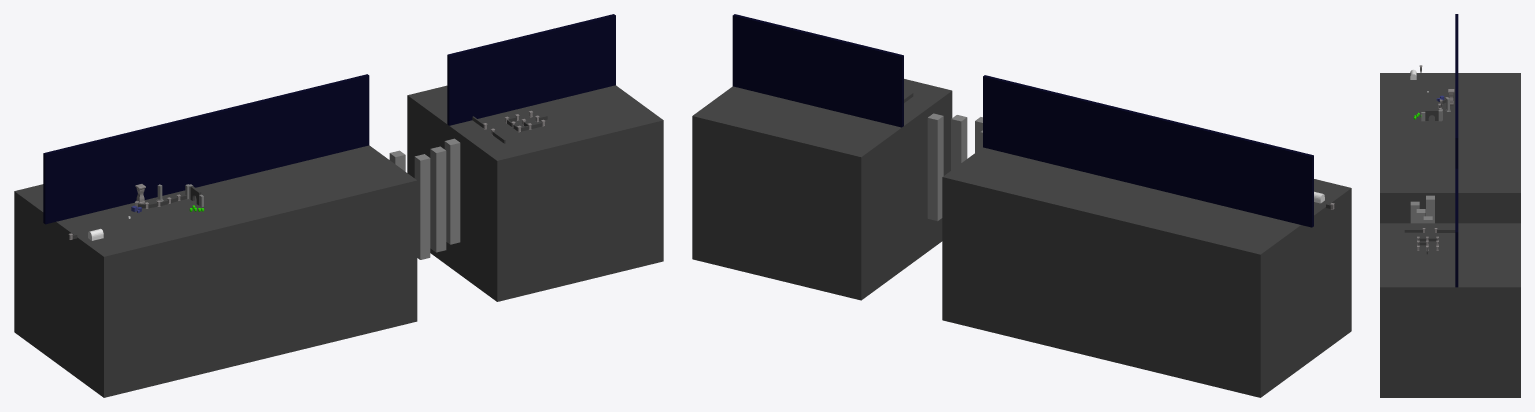
Rendered from Dungeon.fbx_Scene_Scene_Collection.fbx.
The picture shows the model from 3 angles, left to right: view 1: azimuth 30°, elevation 25°; view 2: azimuth 150°, elevation 25°; view 3: azimuth 270°, elevation 25°; orthographic projection. The views are drawn at different scales.
Parts seen in each view (by area): view 1: Plane, Plane.001, Cube, Cube.023, Cube.021, Cube.022, Cube.020; view 2: Plane, Plane.001, Cube, Cube.023, Cube.022, Cube.021; view 3: Plane.001, Plane, Cube, Cube.023, Cube.019, Cube.020.
Boxes of the visible parts, bbox=[...] form: Plane: bbox=[14, 145, 417, 397]; Plane.001: bbox=[407, 85, 663, 301]; Cube: bbox=[43, 74, 369, 224]; Cube.023: bbox=[447, 14, 615, 125]; Cube.021: bbox=[430, 146, 446, 252]; Cube.022: bbox=[444, 138, 460, 244]; Cube.020: bbox=[414, 154, 430, 259]; Plane: bbox=[942, 147, 1351, 397]; Plane.001: bbox=[692, 79, 952, 300]; Cube: bbox=[983, 75, 1313, 227]; Cube.023: bbox=[732, 14, 903, 127]; Cube.022: bbox=[927, 113, 943, 220]; Cube.021: bbox=[951, 115, 967, 170]; Plane.001: bbox=[1380, 223, 1520, 397]; Plane: bbox=[1380, 73, 1520, 223]; Cube: bbox=[1455, 14, 1458, 168]; Cube.023: bbox=[1455, 168, 1458, 287]; Cube.019: bbox=[1426, 195, 1434, 223]; Cube.020: bbox=[1410, 201, 1419, 223].
Size of the model in its own units: 7266 by 2568 by 1980.
